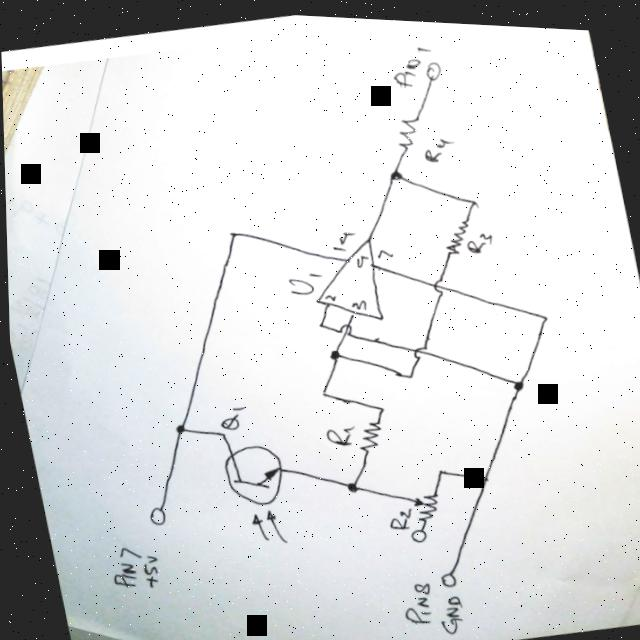crossover: (424, 270, 451, 295), (405, 337, 429, 358), (331, 318, 354, 338)
junction: (323, 344, 341, 359), (168, 420, 185, 435), (212, 425, 229, 440), (340, 476, 357, 491), (311, 382, 328, 397), (222, 225, 239, 240), (310, 315, 327, 330), (398, 365, 415, 380), (507, 374, 524, 389), (533, 306, 550, 321), (385, 164, 402, 179), (429, 462, 447, 476), (369, 399, 386, 413), (472, 468, 489, 482), (462, 191, 479, 205)
resistor: (435, 213, 475, 255), (389, 108, 425, 149), (349, 414, 383, 451), (406, 486, 440, 520)
terminal: (141, 502, 166, 528), (419, 54, 444, 79), (432, 564, 458, 587), (402, 523, 425, 542)
text: (391, 570, 465, 640), (99, 538, 162, 595), (384, 39, 437, 86), (416, 130, 457, 161), (282, 267, 324, 296), (210, 402, 247, 432), (318, 418, 356, 447), (380, 502, 412, 530), (460, 225, 494, 251), (325, 227, 356, 250), (346, 294, 366, 310), (350, 250, 367, 266), (372, 243, 391, 257), (318, 288, 336, 301)
transistor: (213, 435, 295, 551)
